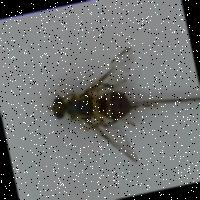Oriental-fruit-fly: (24, 38, 178, 181)
